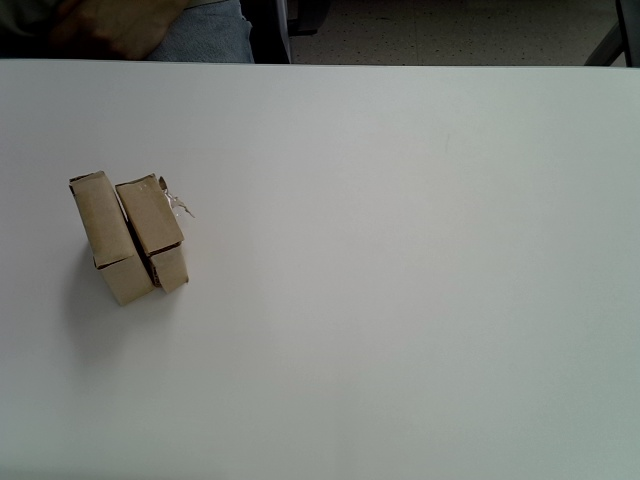defect: (116, 172, 195, 295)
normal: (69, 170, 154, 307)
